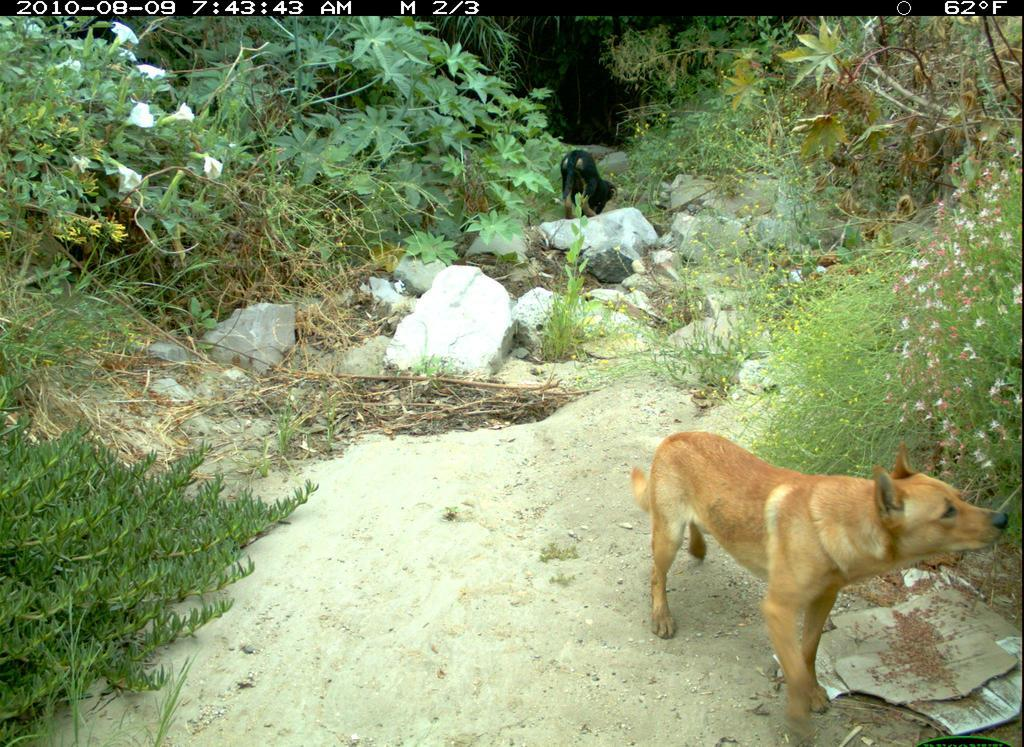dog: (626, 428, 1019, 739), (557, 145, 621, 223)
